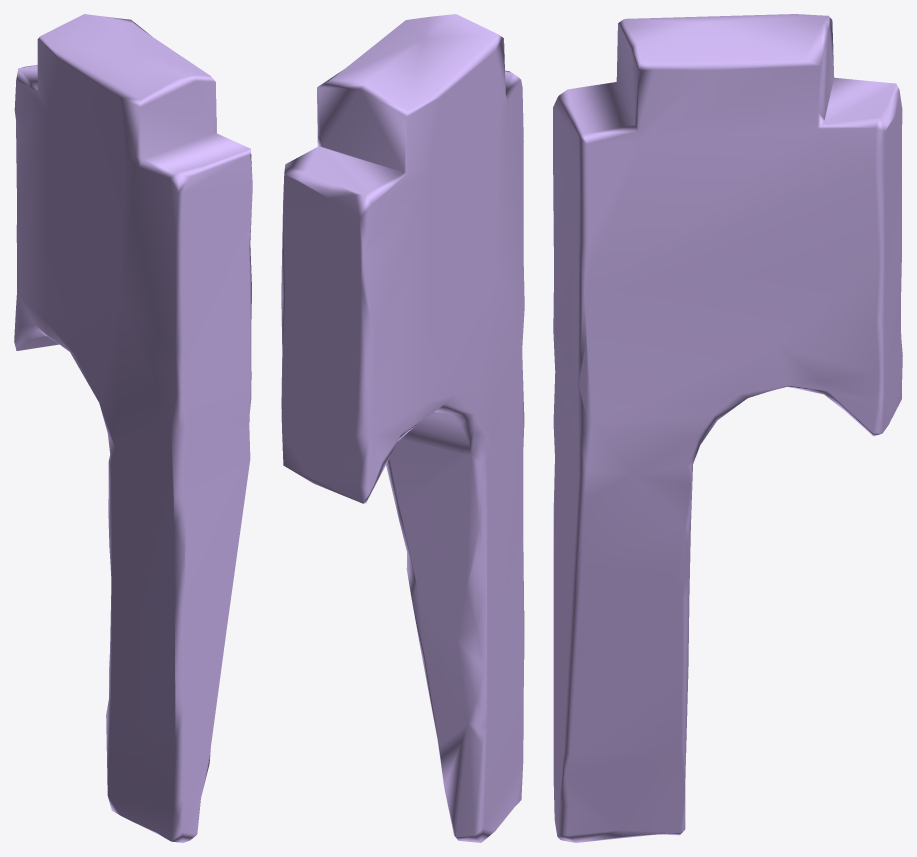
The model's file is krangstein_l_ver1_LOD3.fbx.
3 renders of one model, left to right at view 1: azimuth 30°, elevation 25°; view 2: azimuth 150°, elevation 25°; view 3: azimuth 270°, elevation 25°, orthographic. The views are drawn at different scales.
Visible parts, largest first — view 1: Cube_064lod2.001; view 2: Cube_064lod2.001; view 3: Cube_064lod2.001.
Boxes of the visible parts, left/top/right/bottom form: Cube_064lod2.001: left=14, top=14, right=252, bottom=842; Cube_064lod2.001: left=281, top=14, right=524, bottom=842; Cube_064lod2.001: left=553, top=14, right=902, bottom=842.
Size of the model in its own units: 28.6 by 186 by 71.44.
